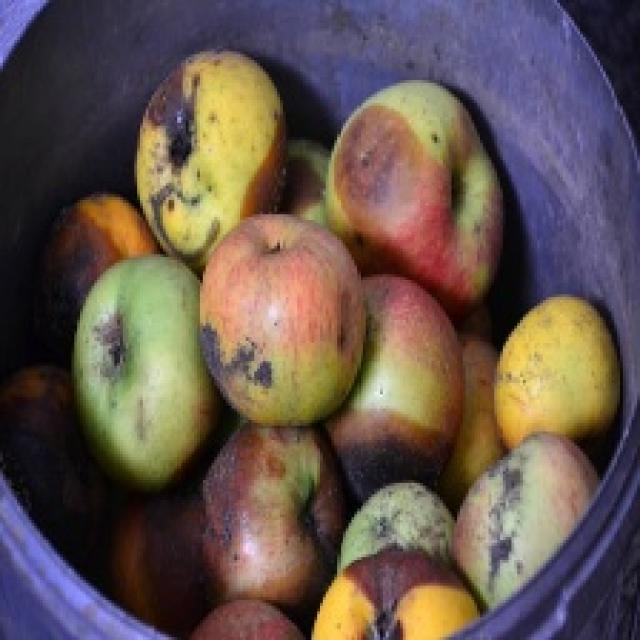rotten_apple: (346, 78, 504, 291), (203, 219, 363, 422), (202, 423, 341, 600), (140, 54, 278, 225), (357, 282, 457, 489), (462, 438, 595, 588), (346, 557, 471, 640), (41, 200, 150, 272)
